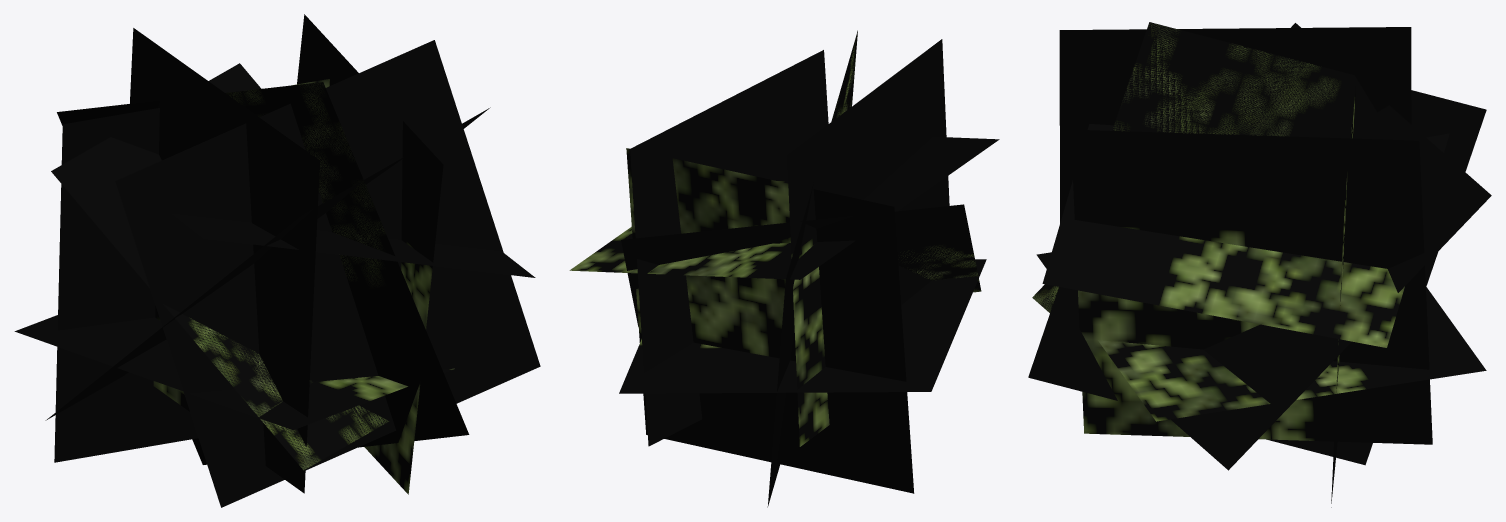
The model's file is ash_leaves_5.obj.
The picture shows the model from 3 angles, left to right: view 1: azimuth 30°, elevation 25°; view 2: azimuth 150°, elevation 25°; view 3: azimuth 270°, elevation 25°; orthographic projection. The views are drawn at different scales.
Parts seen in each view (by area): view 1: bottom, east, north, south, top, west; view 2: top, south, north, east, west; view 3: south, east, west, north, top.
Part boxes in pixels (x1,y1,x2,y2): bottom: [115, 40, 540, 507]; east: [14, 82, 469, 464]; north: [130, 28, 319, 493]; south: [51, 14, 443, 494]; top: [54, 79, 329, 462]; west: [45, 107, 535, 420]; top: [626, 148, 914, 493]; south: [621, 50, 981, 446]; north: [787, 39, 949, 446]; east: [619, 30, 986, 507]; west: [569, 136, 999, 279]; south: [1032, 23, 1491, 470]; east: [1028, 22, 1486, 465]; west: [1042, 124, 1449, 347]; north: [1059, 27, 1411, 223]; top: [1331, 87, 1355, 507].
Bounding box in the file's own units: 2.08 × 2.11 × 1.98.
